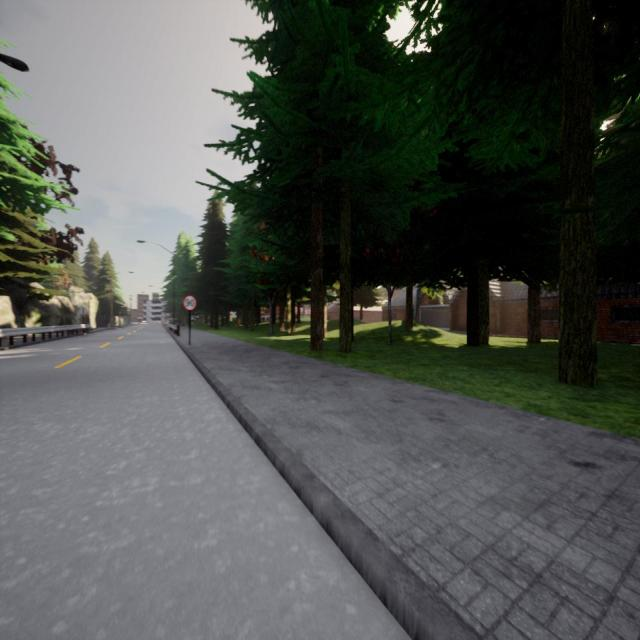Traffic_Signs: (183, 294, 197, 312)
